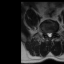CCS_normal: (49, 30, 50, 38)
LFS_severe_stenosis: (52, 30, 54, 35)
LLS_normal: (50, 31, 52, 37)
RFS_stenosis: (44, 30, 47, 36)
RLS_normal: (47, 31, 49, 38)
